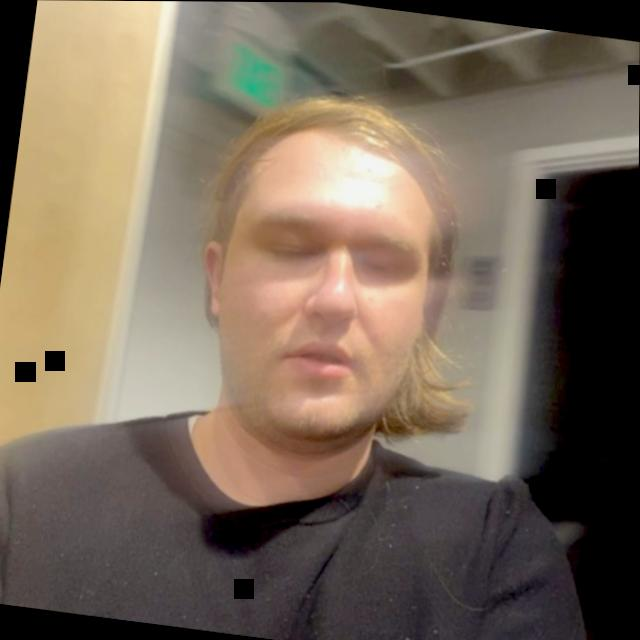NO-Mask: (173, 70, 512, 555)
